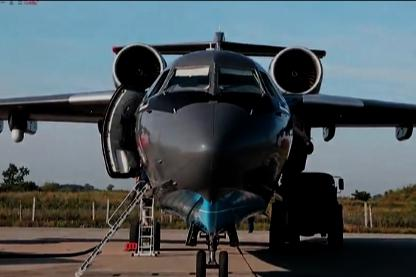B52: (1, 22, 416, 276)
